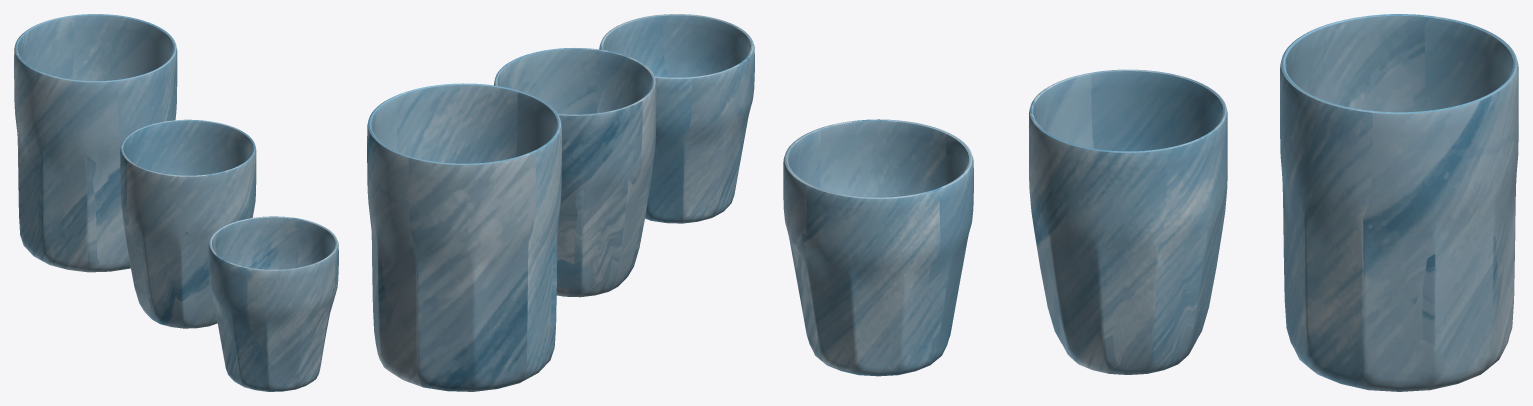
Rendered from vaso.obj.
The picture shows the model from 3 angles, left to right: view 1: azimuth 30°, elevation 25°; view 2: azimuth 150°, elevation 25°; view 3: azimuth 270°, elevation 25°; orthographic projection. The views are drawn at different scales.
Parts seen in each view (by area): view 1: Glass-large, Glass-medium, Glass-small; view 2: Glass-large, Glass-medium, Glass-small; view 3: Glass-large, Glass-medium, Glass-small.
Part boxes in pixels (left/top/right/bottom): Glass-large: left=14, top=14, right=177, bottom=272; Glass-medium: left=120, top=119, right=256, bottom=328; Glass-small: left=208, top=216, right=338, bottom=391; Glass-large: left=367, top=83, right=561, bottom=391; Glass-medium: left=494, top=48, right=656, bottom=297; Glass-small: left=599, top=14, right=754, bottom=223; Glass-large: left=1280, top=14, right=1518, bottom=391; Glass-medium: left=1028, top=69, right=1227, bottom=374; Glass-small: left=783, top=119, right=973, bottom=376.
Bounding box in the file's own units: 0.00912 × 0.0122 × 0.0281.
Materials: 1 (1 with a texture image).
